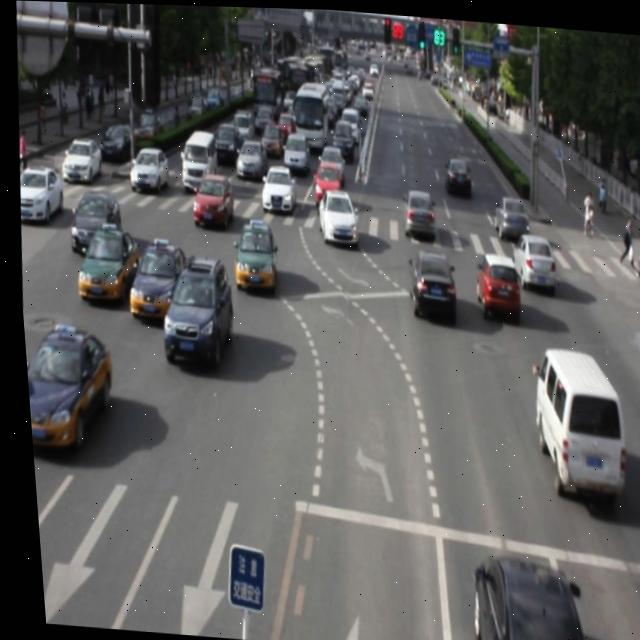car: (19, 318, 113, 458), (460, 550, 584, 640), (153, 252, 233, 366), (70, 222, 138, 307), (121, 235, 187, 321), (402, 246, 456, 318), (470, 248, 519, 319), (228, 220, 276, 291), (187, 168, 234, 230), (506, 227, 553, 286), (313, 185, 357, 244), (398, 184, 435, 236)
truck: (521, 342, 624, 496)
